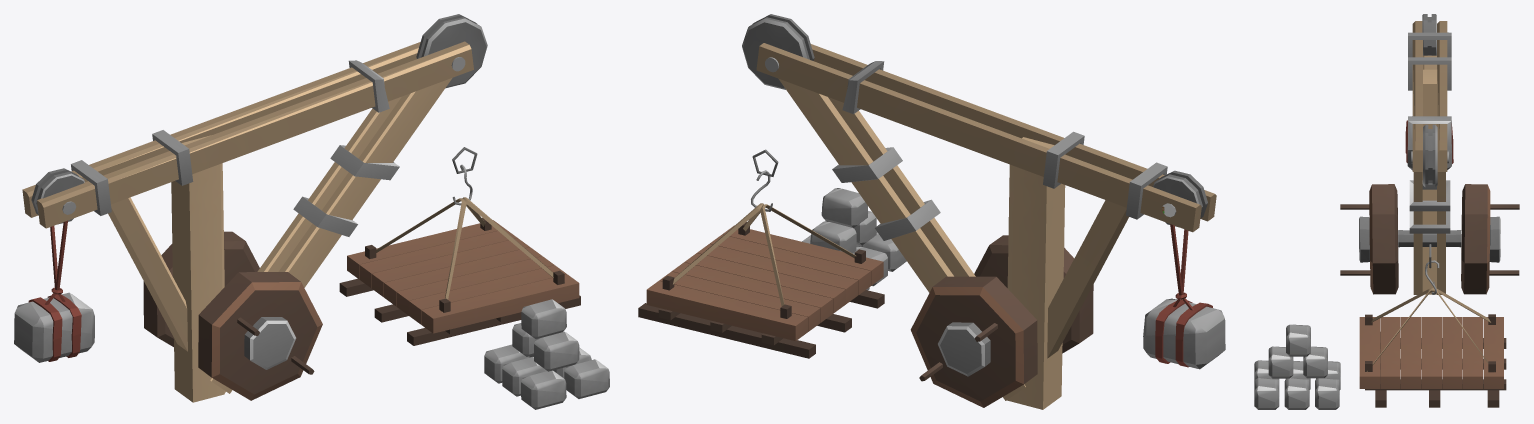
The model's file is winch_0lvl_separate.fbx.
The picture shows the model from 3 angles, left to right: view 1: azimuth 30°, elevation 25°; view 2: azimuth 150°, elevation 25°; view 3: azimuth 270°, elevation 25°; orthographic projection. The views are drawn at different scales.
Visible parts, largest first — view 1: winch_0lvl, base_ver2, thebiggest_wheel_ver2, polySurface5, big_wheel, small_wheel; view 2: winch_0lvl, base_ver2, thebiggest_wheel_ver2, polySurface5, big_wheel, small_wheel; view 3: winch_0lvl, base_ver2, thebiggest_wheel_ver2, big_wheel, small_wheel, polySurface5.
Boxes of the visible parts, left/top/right/bottom form: winch_0lvl: left=22, top=41, right=609, bottom=409; base_ver2: left=339, top=147, right=580, bottom=345; thebiggest_wheel_ver2: left=143, top=231, right=322, bottom=400; polySurface5: left=14, top=220, right=94, bottom=362; big_wheel: left=416, top=14, right=487, bottom=88; small_wheel: left=31, top=168, right=84, bottom=224; winch_0lvl: left=756, top=43, right=1216, bottom=409; base_ver2: left=638, top=149, right=884, bottom=358; thebiggest_wheel_ver2: left=910, top=235, right=1093, bottom=407; polySurface5: left=1143, top=224, right=1225, bottom=369; big_wheel: left=742, top=14, right=814, bottom=89; small_wheel: left=1153, top=170, right=1207, bottom=227; winch_0lvl: left=1254, top=21, right=1451, bottom=409; base_ver2: left=1359, top=244, right=1506, bottom=407; thebiggest_wheel_ver2: left=1340, top=184, right=1519, bottom=294; big_wheel: left=1423, top=124, right=1437, bottom=187; small_wheel: left=1422, top=14, right=1436, bottom=55; polySurface5: left=1405, top=120, right=1453, bottom=170.
Bounding box in the file's own units: 7.18 × 4.08 × 3.75.
